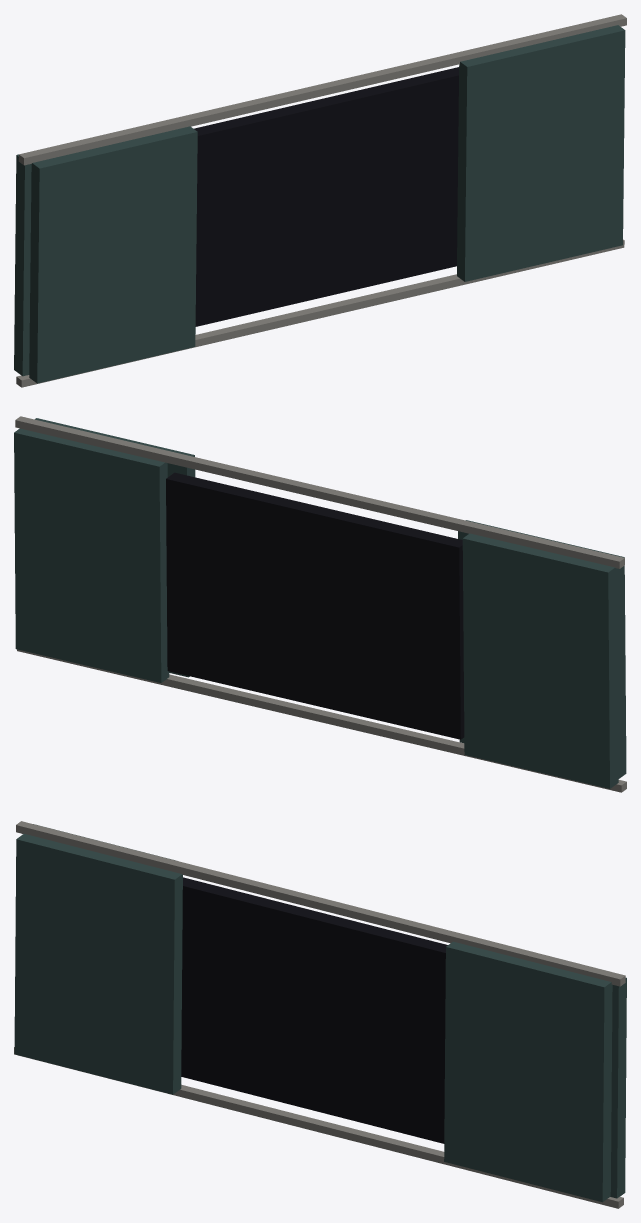
File: board.fbx
The picture shows the model from 3 angles, top to bottom: view 1: azimuth 30°, elevation 25°; view 2: azimuth 150°, elevation 25°; view 3: azimuth 330°, elevation 25°; orthographic projection.
Parts seen in each view (by area): view 1: TV_Screen, Board_Right_Frame.003, Board_Right_Frame.002, Rail_Top, Rail_Bottom, Board_Left_Frame; view 2: TV_Screen, Board_Left_Frame, Board_Right_Frame, Rail_Top, Rail_Bottom, Board_Right_Frame.003, Board_Right_Frame.002; view 3: TV_Screen, Board_Right_Frame.003, Board_Right_Frame.002, Rail_Top, Rail_Bottom, Board_Right_Frame.
Boxes of the visible parts, x1,y1,x2,y2 form: TV_Screen: (194, 67, 458, 326); Board_Right_Frame.003: (29, 126, 197, 383); Board_Right_Frame.002: (457, 25, 625, 281); Rail_Top: (18, 14, 626, 165); Rail_Bottom: (16, 239, 624, 387); Board_Left_Frame: (14, 154, 31, 376); TV_Screen: (166, 472, 464, 739); Board_Left_Frame: (462, 533, 618, 788); Board_Right_Frame: (14, 428, 169, 682); Rail_Top: (15, 416, 624, 568); Rail_Bottom: (17, 649, 626, 792); Board_Right_Frame.003: (458, 520, 626, 778); Board_Right_Frame.002: (35, 418, 195, 677); TV_Screen: (181, 877, 447, 1143); Board_Right_Frame.003: (14, 833, 182, 1094); Board_Right_Frame.002: (444, 941, 612, 1202); Rail_Top: (16, 821, 625, 986); Rail_Bottom: (14, 1047, 623, 1208); Board_Right_Frame: (610, 977, 626, 1198).
Bounding box in the file's own units: 2.63 × 0.9791 × 0.1526.
